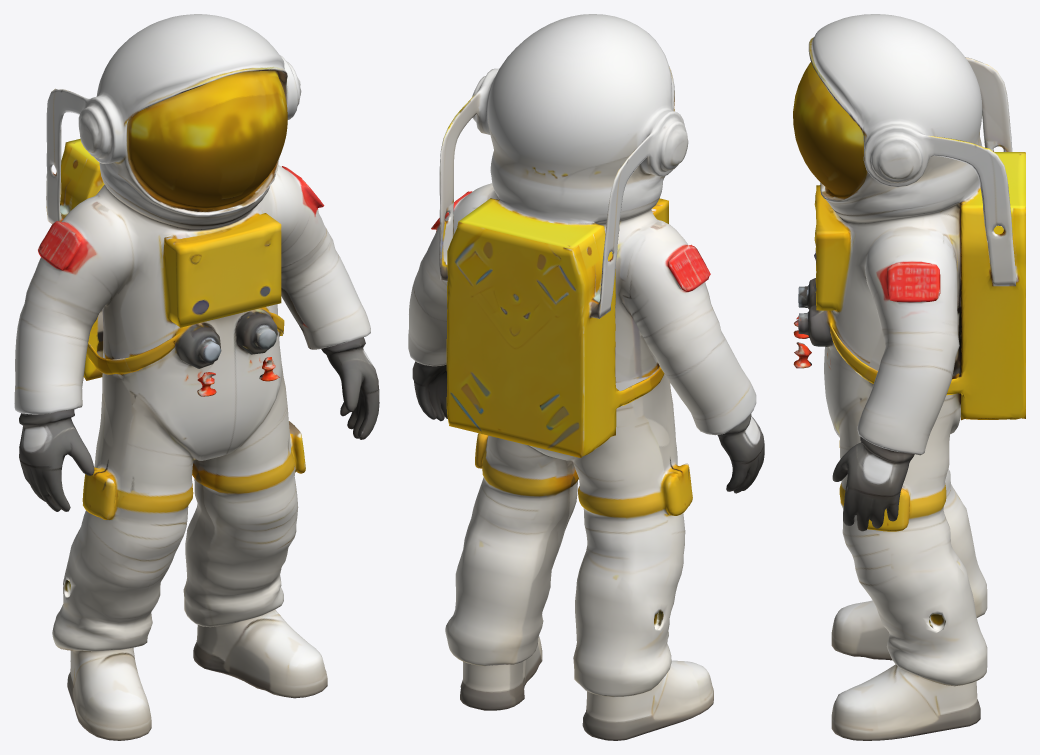
The model's file is astronaut.glb.
3 views of the same model, side by side, from view 1: azimuth 30°, elevation 25°; view 2: azimuth 150°, elevation 25°; view 3: azimuth 270°, elevation 25° (orthographic). The views are drawn at different scales.
Visible parts, largest first — view 1: model; view 2: model; view 3: model.
Part boxes in pixels (left/top/right/bottom): model: left=14, top=14, right=379, bottom=740; model: left=408, top=14, right=764, bottom=740; model: left=793, top=14, right=1025, bottom=740.
Bounding box in the file's own units: 1.02 × 1.9 × 0.6057.
1 material, 1 textured.
